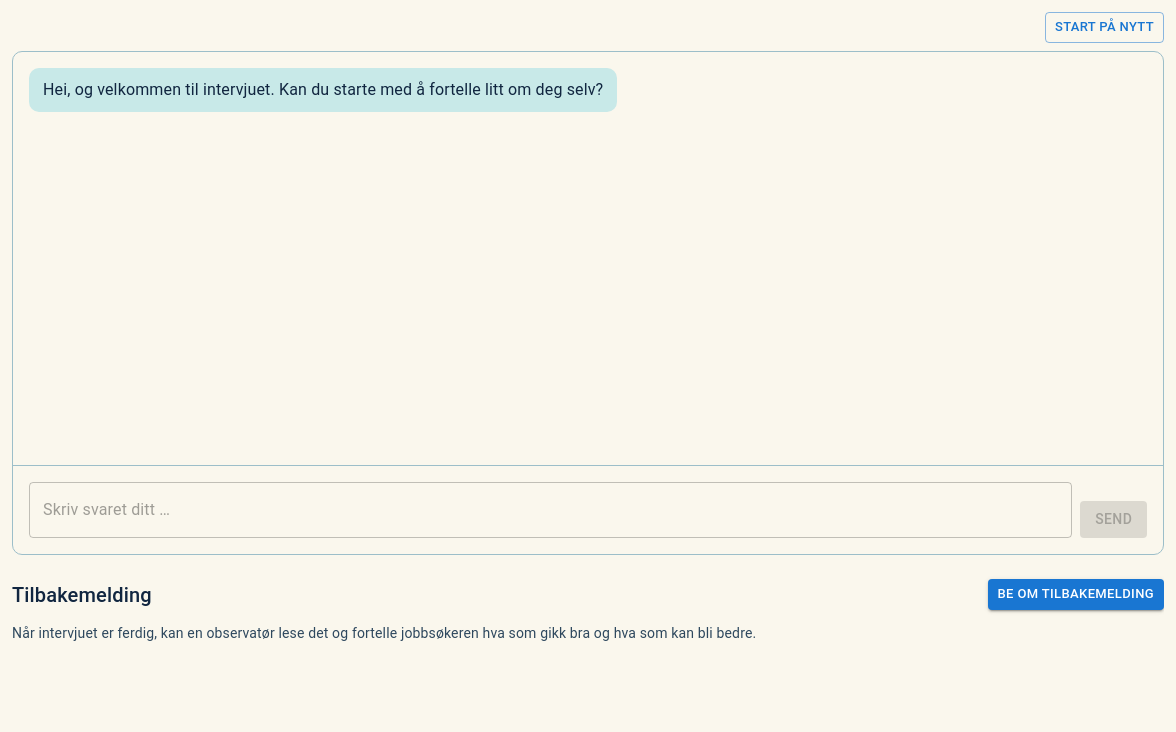
it: TestChat › sends the conversation, greeting included, to the agent being tested
Type "Jeg har jobbet i butikk i fem år." into the text box named "Melding" at (551, 510), box 43,498 -> 1058,521
Then press Enter
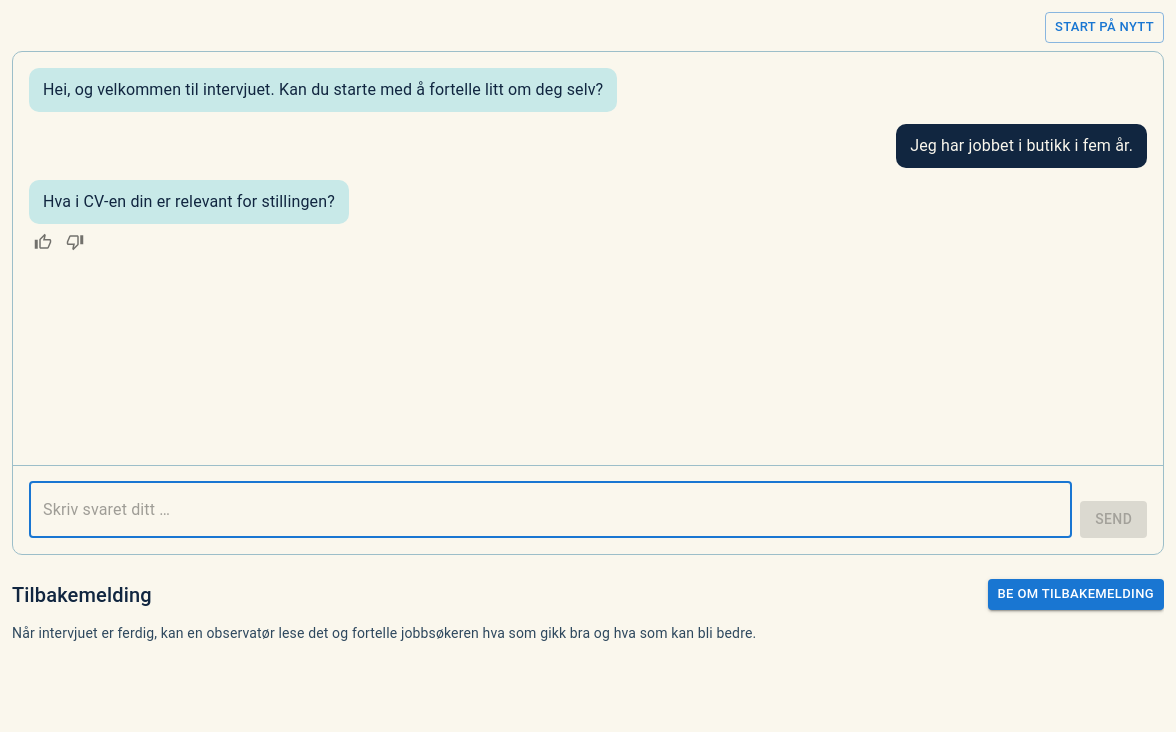
Expected: the list item "Hva i CV-en din er relevant for stillingen?" is shown, 29,180 -> 349,224
